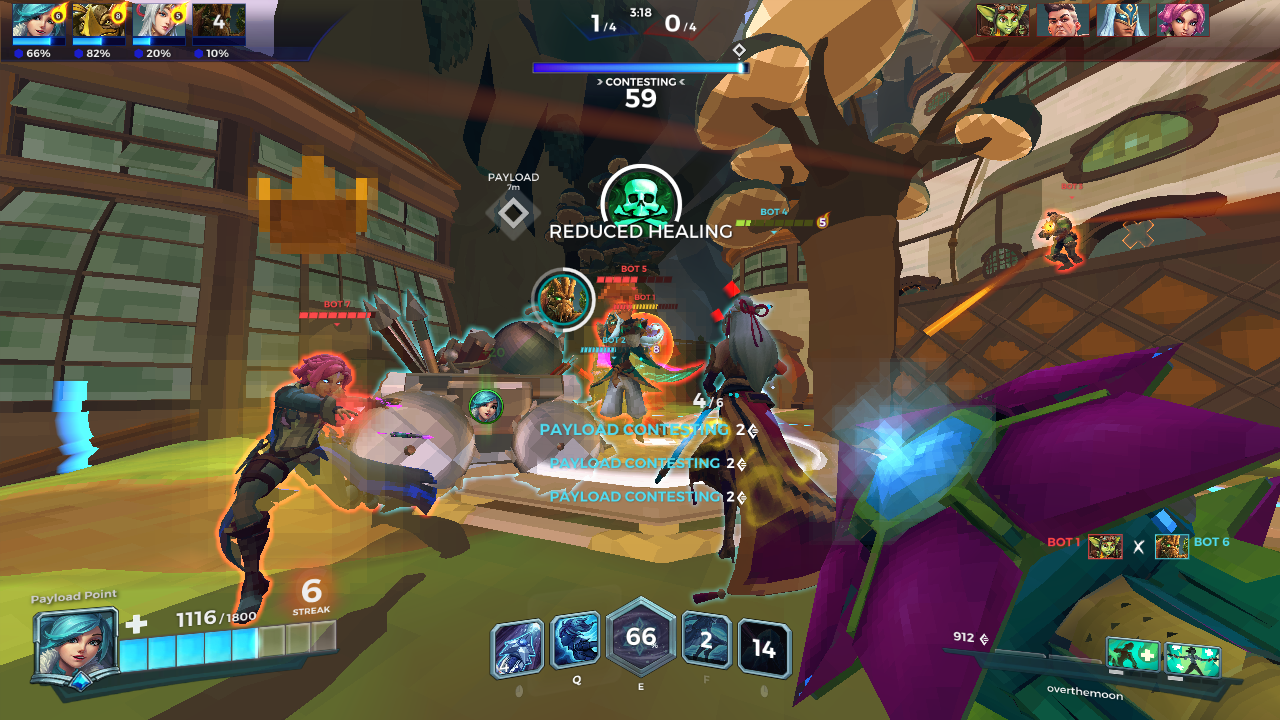model: (212, 353, 428, 604), (594, 312, 666, 451), (1033, 203, 1090, 277)
